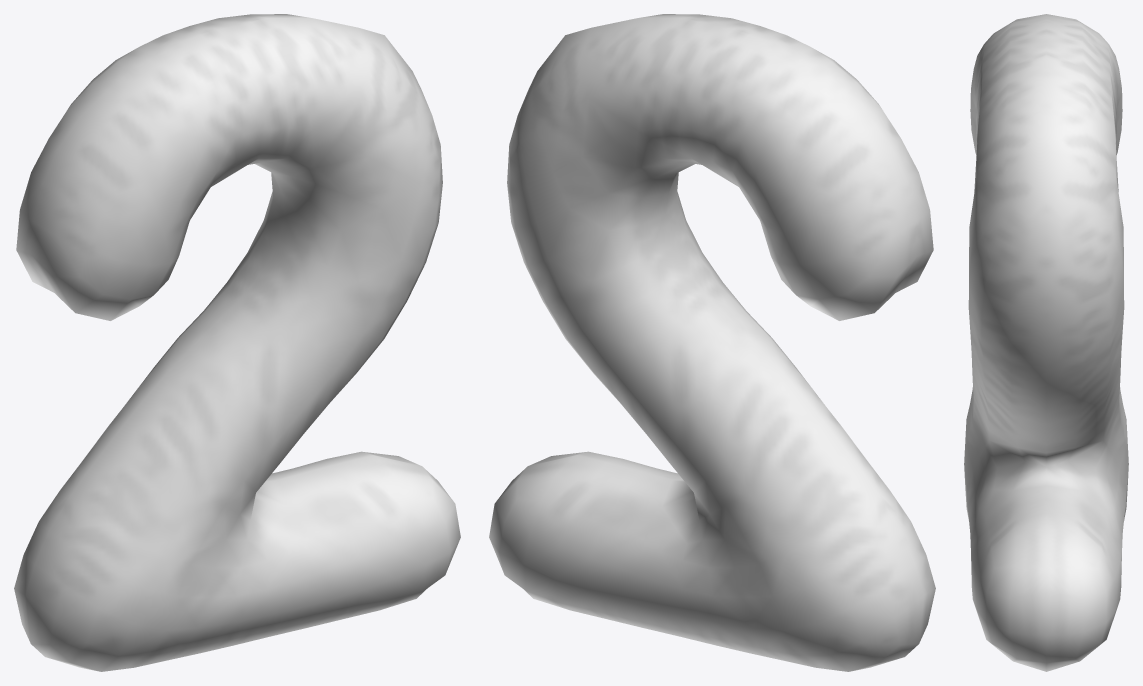
Rendered from LettersBalloon01_2.FBX.
The picture shows the model from 3 angles, left to right: view 1: azimuth 30°, elevation 25°; view 2: azimuth 150°, elevation 25°; view 3: azimuth 270°, elevation 25°; orthographic projection. The views are drawn at different scales.
Parts seen in each view (by area): view 1: LettersBalloon01_2; view 2: LettersBalloon01_2; view 3: LettersBalloon01_2.
Boxes of the visible parts, x1,y1,x2,y2 form: LettersBalloon01_2: (14,14,460,671); LettersBalloon01_2: (489,14,935,671); LettersBalloon01_2: (964,14,1128,671).
Size of what is drawn, in the model's own units: 0.3483 by 0.4812 by 0.129.
